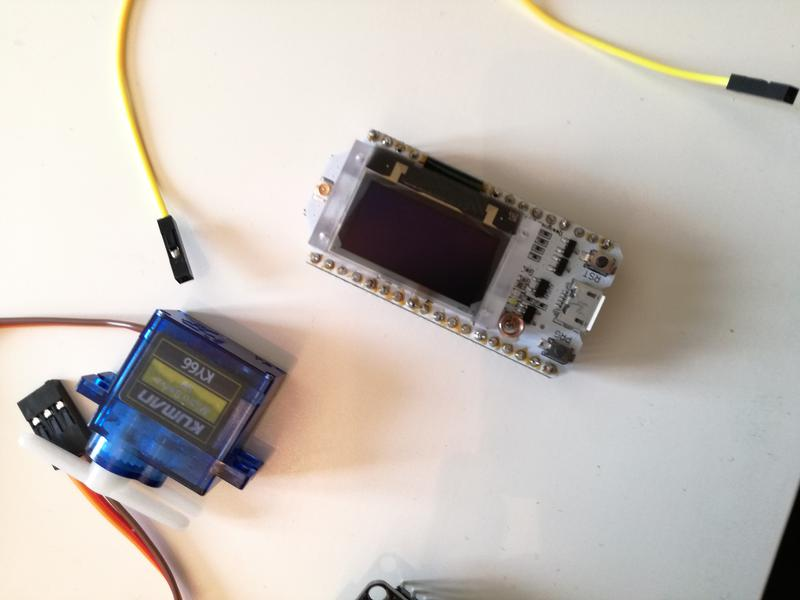Heltec_ESP32_Lora: (298, 121, 632, 386)
